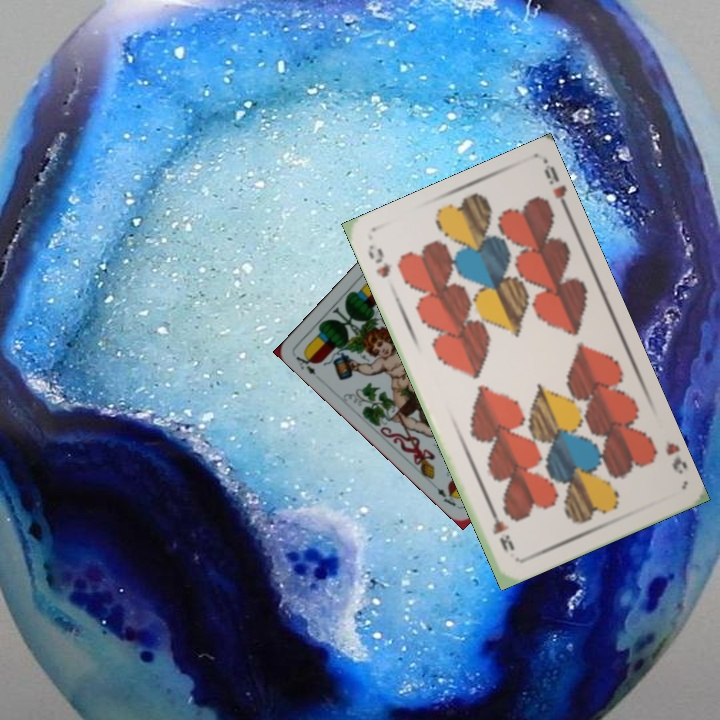EA: (291, 347, 319, 378)
H9: (363, 240, 393, 281), (661, 438, 687, 477)
